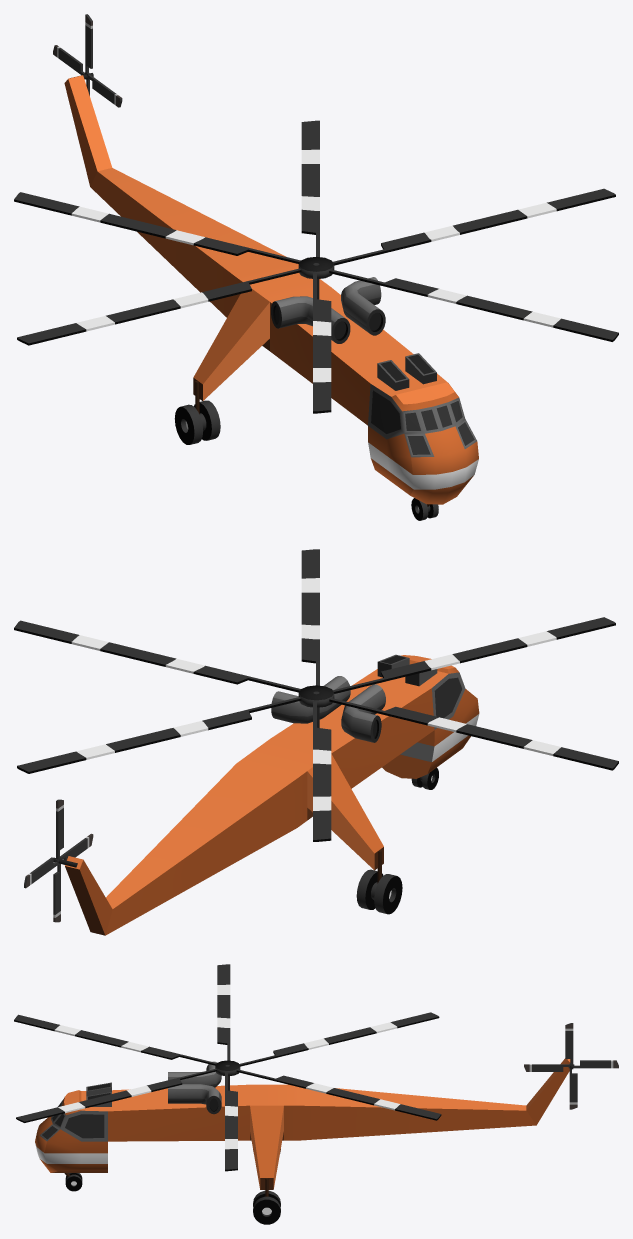
File: Heli_1.fbx
3 renders of one model, top to bottom at view 1: azimuth 30°, elevation 25°; view 2: azimuth 150°, elevation 25°; view 3: azimuth 270°, elevation 25°, orthographic. The views are drawn at different scales.
Visible parts, largest first — view 1: Body, Rotor, Rotor_Back; view 2: Body, Rotor, Rotor_Back; view 3: Body, Rotor, Rotor_Back.
Part boxes in pixels (<box>): Body: <box>64,75,478,520</box>; Rotor: <box>14,120,618,413</box>; Rotor_Back: <box>53,14,122,107</box>; Body: <box>65,654,479,935</box>; Rotor: <box>14,549,618,841</box>; Rotor_Back: <box>24,799,93,922</box>; Body: <box>35,1058,570,1224</box>; Rotor: <box>14,964,441,1171</box>; Rotor_Back: <box>524,1023,618,1109</box>.
Size of the model in its own units: 3798 by 1472 by 4730.
